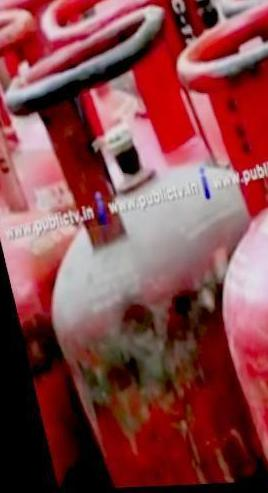cylinder: (1, 1, 268, 493)
